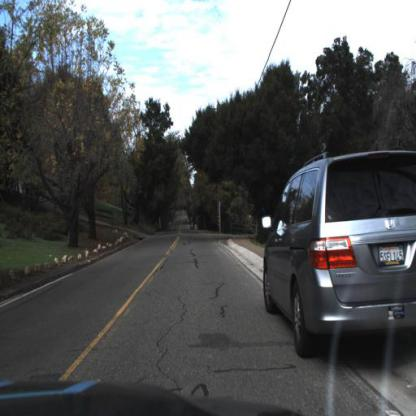car: (263, 150, 416, 361)
